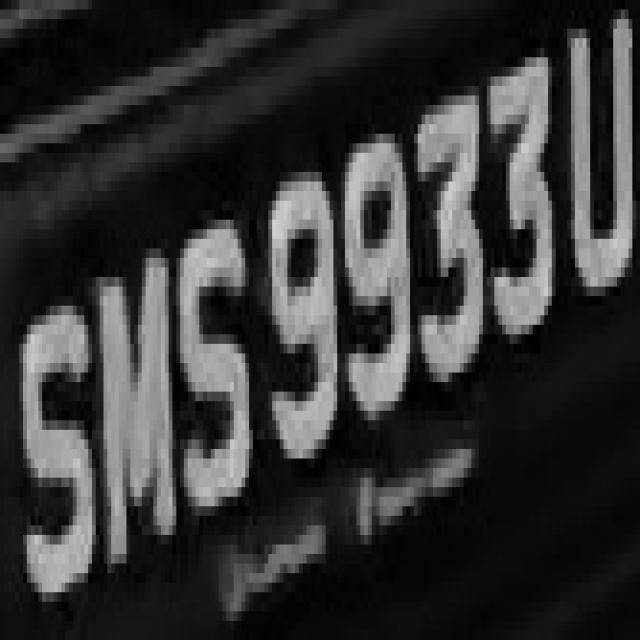3: (402, 86, 494, 392), (471, 58, 552, 372)
9: (264, 152, 345, 478), (345, 105, 421, 449)
M: (76, 238, 172, 564)
S: (165, 182, 257, 526), (0, 4, 1, 10)
U: (556, 0, 632, 325)
